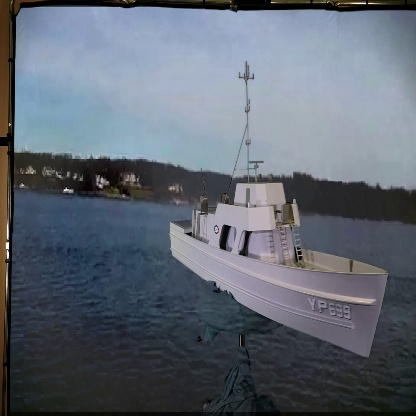YP689: (170, 60, 389, 358)
